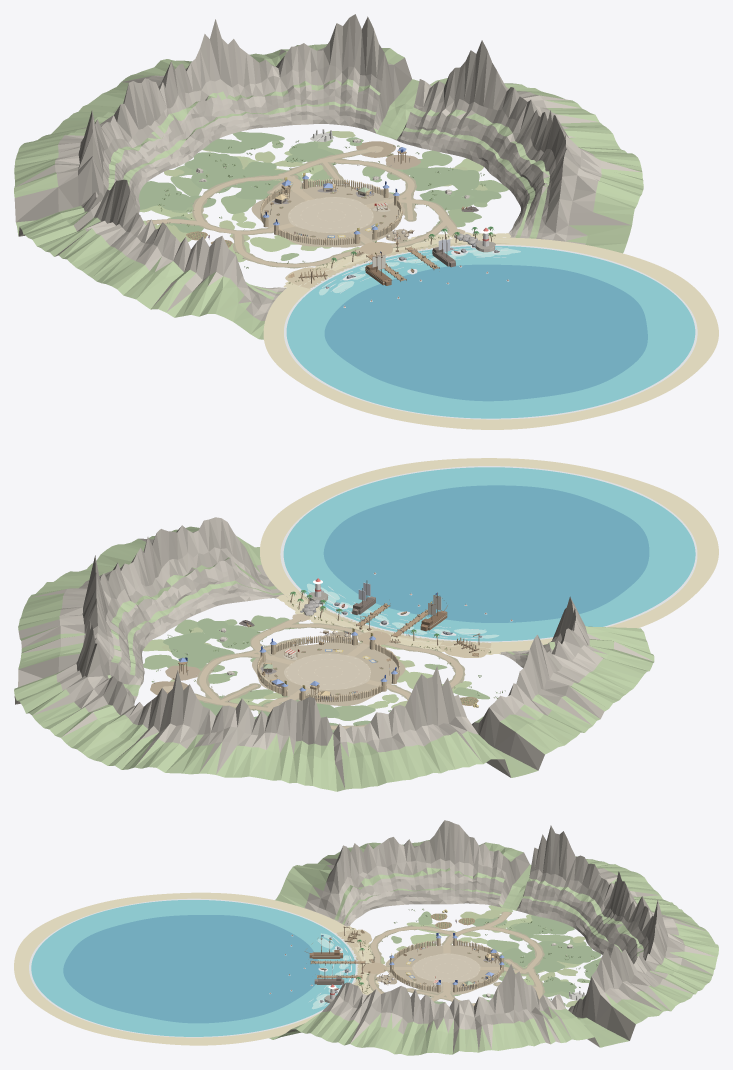
Rendered from map_city_port.glb.
3 renders of one model, top to bottom at view 1: azimuth 30°, elevation 25°; view 2: azimuth 150°, elevation 25°; view 3: azimuth 270°, elevation 25°, orthographic. The views are drawn at different scales.
Parts seen in each view (by area): view 1: Z_city_port_penhascos, Z_city_port_agua_funda_mar, Z_city_port_agua_mar, Z_city_port_areia_mar, Z_city_port_chao_colonia, Z_city_port_det_chao_-2_-2, Z_city_port_praca_praca, Z_city_port_det_chao_-1_-2, Z_city_port_espuma_mar, Z_city_port_det_chao_1_-1, Z_city_port_det_chao_0_-2, Z_city_port_det_chao_2_0 (+8 smaller); view 2: Z_city_port_penhascos, Z_city_port_agua_funda_mar, Z_city_port_agua_mar, Z_city_port_areia_mar, Z_city_port_chao_colonia, Z_city_port_praca_praca, Z_city_port_espuma_mar, Z_city_port_det_chao_1_-1, Z_city_port_det_chao_2_0, Z_city_port_det_chao_1_0, Z_city_port_det_chao_0_1, Z_city_port_det_chao_-1_-1 (+4 smaller); view 3: Z_city_port_penhascos, Z_city_port_agua_funda_mar, Z_city_port_agua_mar, Z_city_port_areia_mar, Z_city_port_chao_colonia, Z_city_port_det_chao_-2_-2, Z_city_port_praca_praca, Z_city_port_det_chao_-1_-2, Z_city_port_espuma_mar, Z_city_port_det_chao_0_-2, Z_city_port_det_chao_-1_-1, Z_city_port_det_chao_-2_-1 (+8 smaller).
Boxes of the visible parts, bbox=[...] form: Z_city_port_penhascos: bbox=[14, 14, 643, 339]; Z_city_port_agua_funda_mar: bbox=[324, 264, 647, 401]; Z_city_port_agua_mar: bbox=[286, 246, 695, 418]; Z_city_port_areia_mar: bbox=[263, 237, 718, 429]; Z_city_port_chao_colonia: bbox=[251, 184, 405, 247]; Z_city_port_det_chao_-2_-2: bbox=[138, 174, 282, 235]; Z_city_port_praca_praca: bbox=[288, 197, 373, 233]; Z_city_port_det_chao_-1_-2: bbox=[191, 156, 297, 192]; Z_city_port_espuma_mar: bbox=[284, 244, 697, 419]; Z_city_port_det_chao_1_-1: bbox=[328, 158, 464, 199]; Z_city_port_det_chao_0_-2: bbox=[255, 141, 371, 188]; Z_city_port_det_chao_2_0: bbox=[442, 169, 508, 207]; Z_city_port_penhascos: bbox=[14, 517, 654, 791]; Z_city_port_agua_funda_mar: bbox=[323, 485, 649, 622]; Z_city_port_agua_mar: bbox=[283, 467, 695, 641]; Z_city_port_areia_mar: bbox=[260, 458, 718, 651]; Z_city_port_chao_colonia: bbox=[252, 641, 405, 705]; Z_city_port_praca_praca: bbox=[284, 653, 370, 689]; Z_city_port_espuma_mar: bbox=[280, 466, 697, 642]; Z_city_port_det_chao_1_-1: bbox=[165, 643, 260, 700]; Z_city_port_det_chao_2_0: bbox=[163, 618, 237, 651]; Z_city_port_det_chao_1_0: bbox=[204, 619, 299, 659]; Z_city_port_det_chao_0_1: bbox=[283, 592, 489, 647]; Z_city_port_det_chao_-1_-1: bbox=[282, 683, 375, 720]; Z_city_port_penhascos: bbox=[269, 820, 718, 1055]; Z_city_port_agua_funda_mar: bbox=[63, 915, 319, 1023]; Z_city_port_agua_mar: bbox=[31, 900, 355, 1036]; Z_city_port_areia_mar: bbox=[14, 892, 369, 1045]; Z_city_port_chao_colonia: bbox=[385, 945, 504, 994]; Z_city_port_det_chao_-2_-2: bbox=[443, 917, 574, 969]; Z_city_port_praca_praca: bbox=[412, 953, 480, 982]; Z_city_port_det_chao_-1_-2: bbox=[505, 941, 585, 972]; Z_city_port_espuma_mar: bbox=[29, 898, 357, 1037]; Z_city_port_det_chao_0_-2: bbox=[497, 965, 577, 994]; Z_city_port_det_chao_-1_-1: bbox=[458, 939, 528, 972]; Z_city_port_det_chao_-2_-1: bbox=[457, 913, 517, 943].
Size of the model in its own units: 324 by 57.68 by 456.
